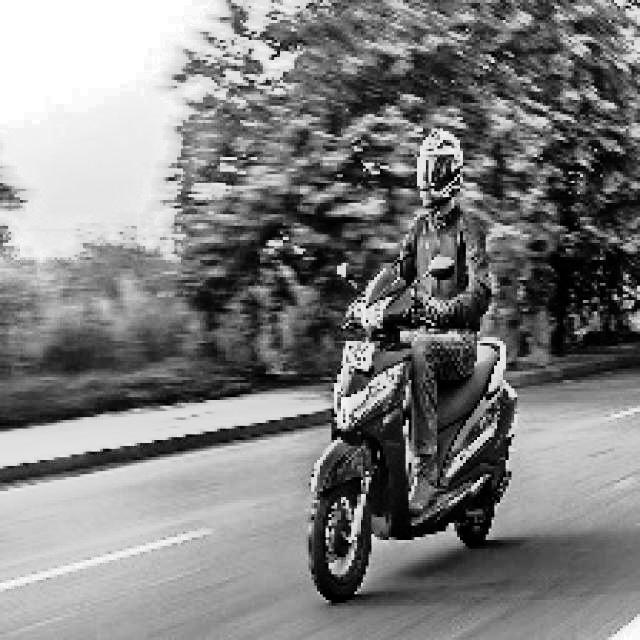Bike: (314, 285, 524, 603)
